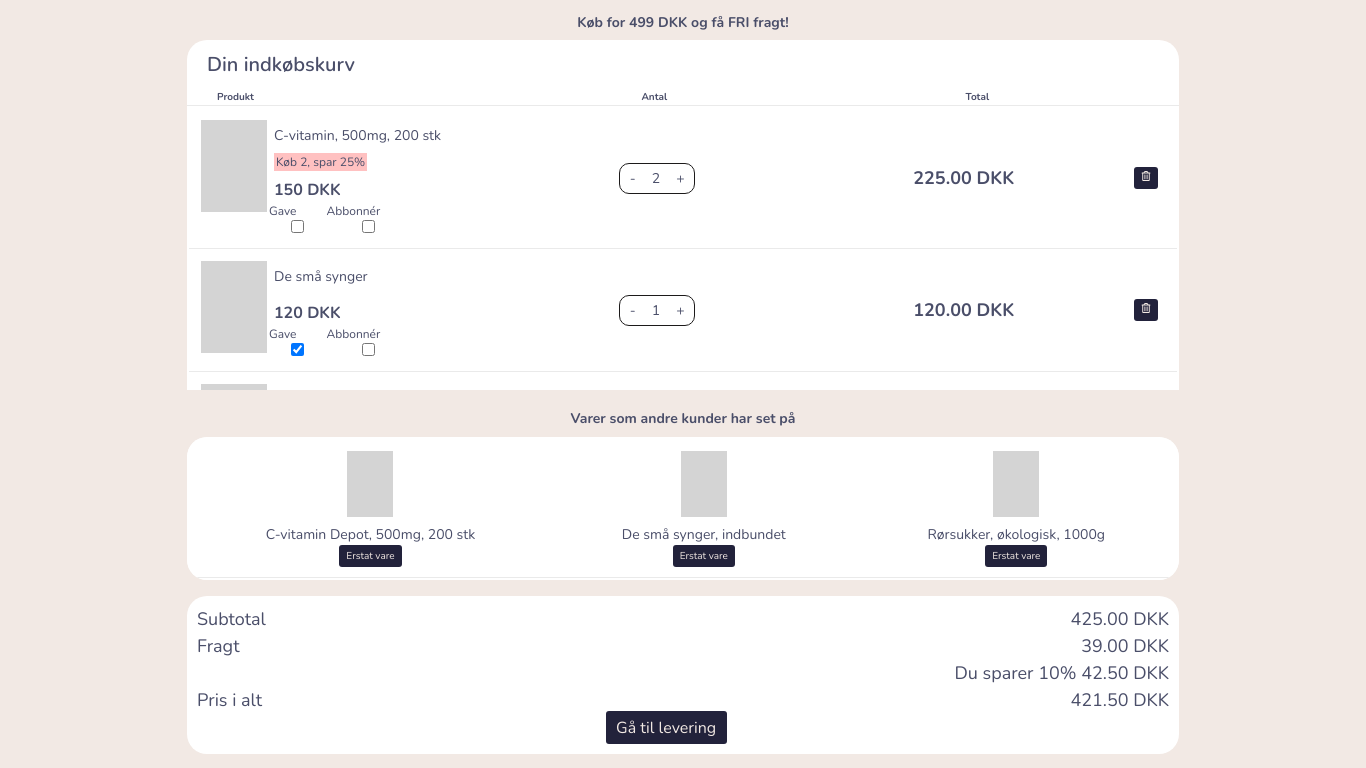
ShoppingList › Let user decrement quantity of item
expect the text named "Subtotal 425.00 DKK" is shown: met, box 1070,606 -> 1169,633
Click the button named "reducer antal C-vitamin, 500mg, 200 stk" at [636, 178], box 620,164 -> 652,193
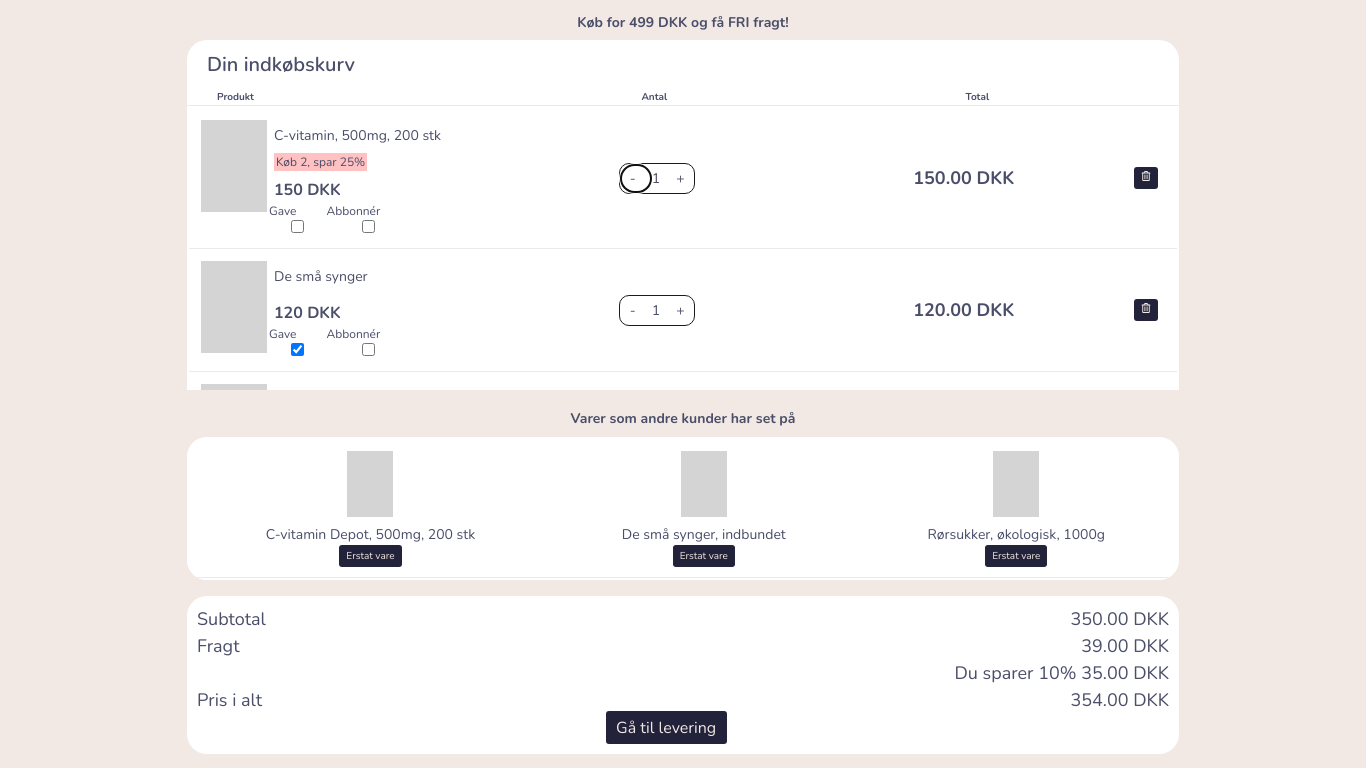
expect the text named "Subtotal 350.00 DKK" is shown: met, box 1070,606 -> 1169,633
